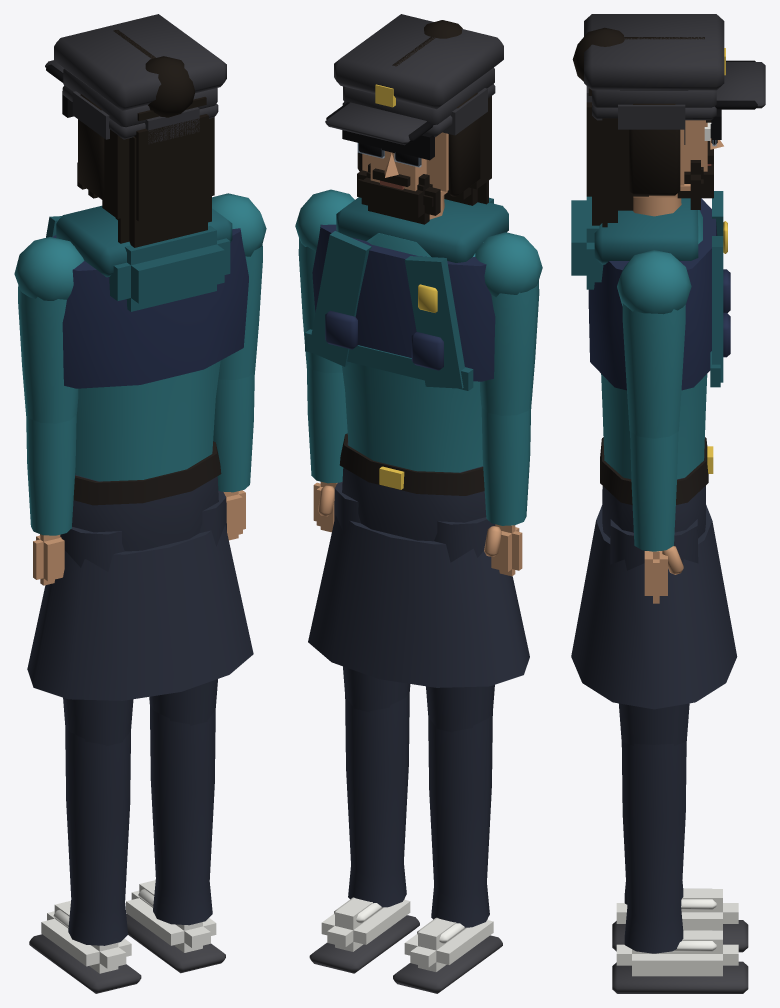
File: kit_m.glb
3 renders of one model, left to right at view 1: azimuth 30°, elevation 25°; view 2: azimuth 150°, elevation 25°; view 3: azimuth 270°, elevation 25°, orthographic. The views are drawn at different scales.
Visible parts, largest first — view 1: KM__X_hips_skirt, KM__X_chest_vest, KM__M_spine, KM__M_knee_l, KM__M_knee_r, KM__X_head_hair2, KM__X_head_hat3, KM__M_hips, KM__X_chest_hood, KM__M_shoulder_l, KM__M_elbow_l, KM__M_chest (+13 smaller); view 2: KM__X_hips_skirt, KM__X_chest_jacket, KM__X_chest_vest, KM__X_head_hat3, KM__M_spine, KM__M_knee_l, KM__M_knee_r, KM__M_hips, KM__M_chest, KM__M_shoulder_l, KM__M_elbow_l, KM__M_ankle_l (+14 smaller); view 3: KM__X_hips_skirt, KM__M_knee_r, KM__X_head_hat3, KM__X_chest_vest, KM__M_shoulder_r, KM__X_chest_jacket, KM__M_ankle_r, KM__X_head_hair2, KM__M_elbow_r, KM__M_spine, KM__M_thigh_r, KM__M_hips (+12 smaller).
Boxes of the visible parts, x1=… form: KM__X_hips_skirt: x1=27, y1=525, x2=253, y2=700; KM__X_chest_vest: x1=52, y1=228, x2=248, y2=388; KM__M_spine: x1=75, y1=360, x2=220, y2=481; KM__M_knee_l: x1=65, y1=725, x2=130, y2=945; KM__M_knee_r: x1=150, y1=705, x2=215, y2=925; KM__X_head_hair2: x1=78, y1=94, x2=214, y2=221; KM__X_head_hat3: x1=46, y1=14, x2=226, y2=127; KM__M_hips: x1=72, y1=441, x2=221, y2=551; KM__X_chest_hood: x1=109, y1=226, x2=230, y2=311; KM__M_shoulder_l: x1=18, y1=285, x2=78, y2=423; KM__M_elbow_l: x1=26, y1=413, x2=76, y2=535; KM__M_chest: x1=14, y1=193, x2=266, y2=300; KM__X_hips_skirt: x1=308, y1=515, x2=529, y2=687; KM__X_chest_jacket: x1=305, y1=197, x2=508, y2=390; KM__X_chest_vest: x1=312, y1=224, x2=495, y2=381; KM__X_head_hat3: x1=326, y1=14, x2=503, y2=142; KM__M_spine: x1=342, y1=362, x2=482, y2=472; KM__M_knee_l: x1=428, y1=711, x2=492, y2=927; KM__M_knee_r: x1=345, y1=692, x2=409, y2=907; KM__M_hips: x1=339, y1=433, x2=486, y2=541; KM__M_chest: x1=295, y1=189, x2=542, y2=297; KM__M_shoulder_l: x1=480, y1=280, x2=539, y2=415; KM__M_elbow_l: x1=481, y1=405, x2=531, y2=525; KM__M_ankle_l: x1=393, y1=917, x2=502, y2=993; KM__X_hips_skirt: x1=571, y1=505, x2=737, y2=709; KM__M_knee_r: x1=621, y1=741, x2=686, y2=953; KM__X_head_hat3: x1=584, y1=14, x2=757, y2=109; KM__X_chest_vest: x1=588, y1=198, x2=730, y2=390; KM__M_shoulder_r: x1=622, y1=303, x2=685, y2=438; KM__X_chest_jacket: x1=594, y1=191, x2=723, y2=387; KM__M_ankle_r: x1=612, y1=930, x2=748, y2=993; KM__X_head_hair2: x1=586, y1=88, x2=680, y2=210; KM__M_elbow_r: x1=630, y1=431, x2=678, y2=551; KM__M_spine: x1=601, y1=374, x2=707, y2=479; KM__M_thigh_r: x1=610, y1=519, x2=698, y2=745; KM__M_hips: x1=600, y1=437, x2=713, y2=538.
Size of the model in its own units: 0.537 by 1.98 by 0.375.
